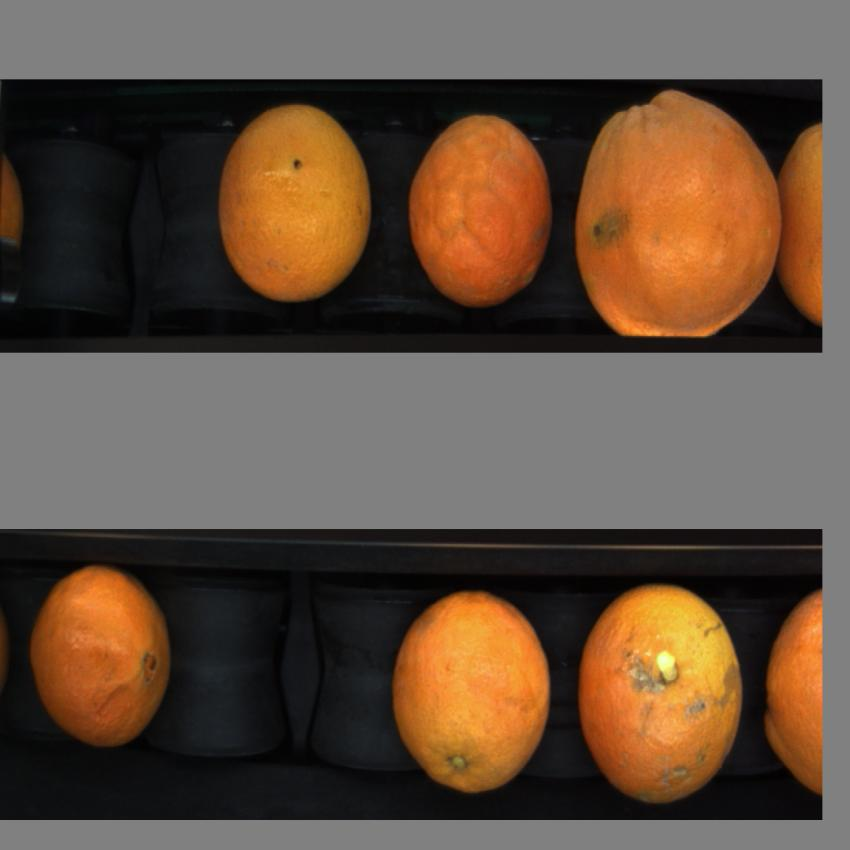Buen estado: (576, 585, 746, 806), (388, 588, 557, 799), (212, 96, 377, 310), (400, 108, 557, 308), (760, 583, 822, 796)
Mal estado: (573, 90, 783, 338), (24, 561, 177, 752), (780, 113, 822, 325)
